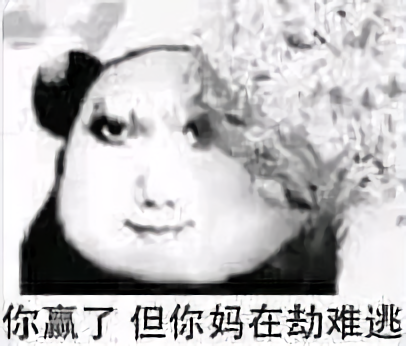dragon: (84, 101, 228, 249)
